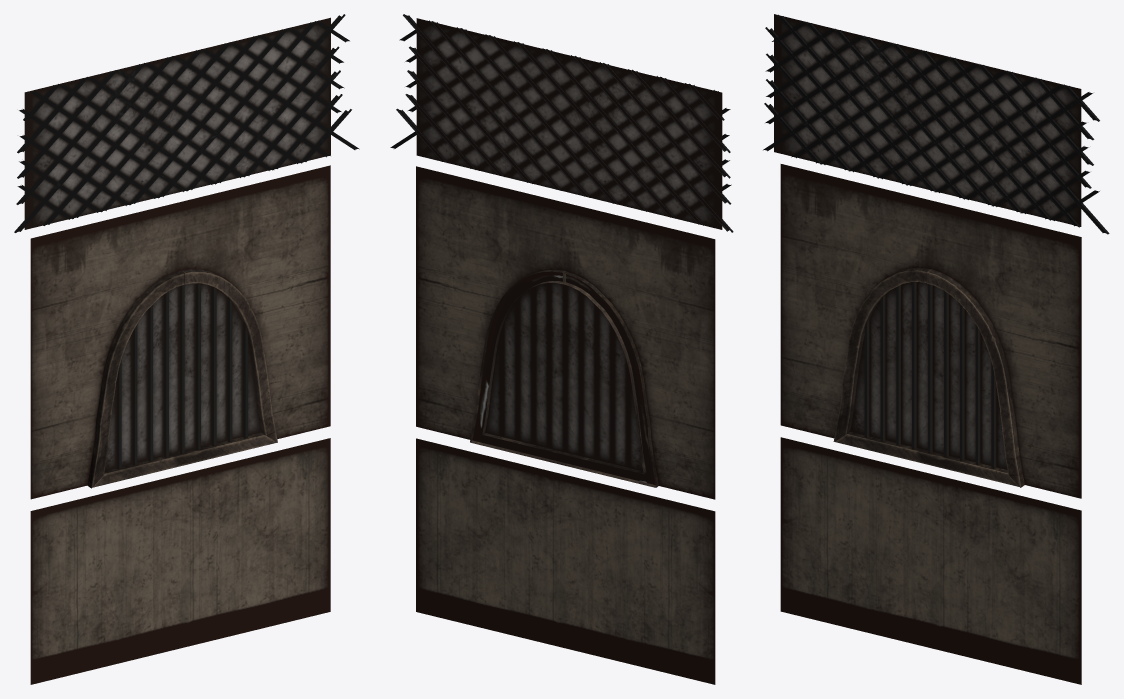
The model's file is SM_Wall_Pannels_05.fbx.
3 renders of one model, left to right at view 1: azimuth 30°, elevation 25°; view 2: azimuth 150°, elevation 25°; view 3: azimuth 330°, elevation 25°, orthographic.
Parts seen in each view (by area): view 1: SM_Wall_Pannels_05_LOD0; view 2: SM_Wall_Pannels_05_LOD0; view 3: SM_Wall_Pannels_05_LOD0.
Part boxes in pixels (left/top/right/bottom): SM_Wall_Pannels_05_LOD0: left=14, top=14, right=359, bottom=684; SM_Wall_Pannels_05_LOD0: left=390, top=14, right=733, bottom=684; SM_Wall_Pannels_05_LOD0: left=763, top=14, right=1109, bottom=684.
Size of the model in its own units: 222 by 8.14 by 367.
